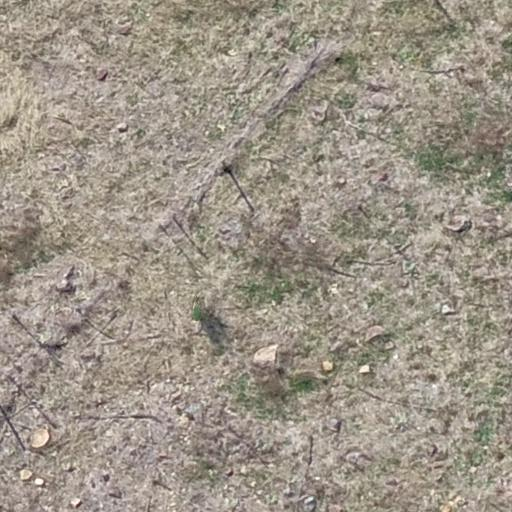stone: (48, 308, 84, 338), (252, 345, 281, 368), (28, 427, 52, 451), (38, 331, 70, 349), (308, 99, 330, 124), (368, 91, 394, 111), (442, 216, 471, 233), (345, 450, 369, 468), (364, 325, 386, 344), (364, 80, 396, 93), (477, 272, 505, 286), (114, 17, 133, 35), (298, 494, 317, 512), (55, 278, 75, 294), (370, 171, 390, 186), (184, 403, 201, 417), (329, 339, 345, 353), (106, 487, 124, 499), (62, 265, 75, 281), (19, 468, 33, 482), (177, 414, 191, 428), (96, 68, 108, 82), (328, 419, 340, 433), (442, 304, 456, 315), (322, 360, 334, 372), (70, 497, 82, 509), (304, 233, 318, 242), (116, 122, 128, 132), (358, 364, 370, 374), (99, 471, 111, 481), (440, 504, 453, 512), (224, 467, 234, 477), (338, 174, 347, 184), (240, 465, 250, 474), (34, 478, 44, 486), (470, 466, 478, 474), (258, 490, 263, 495), (250, 482, 256, 486)
